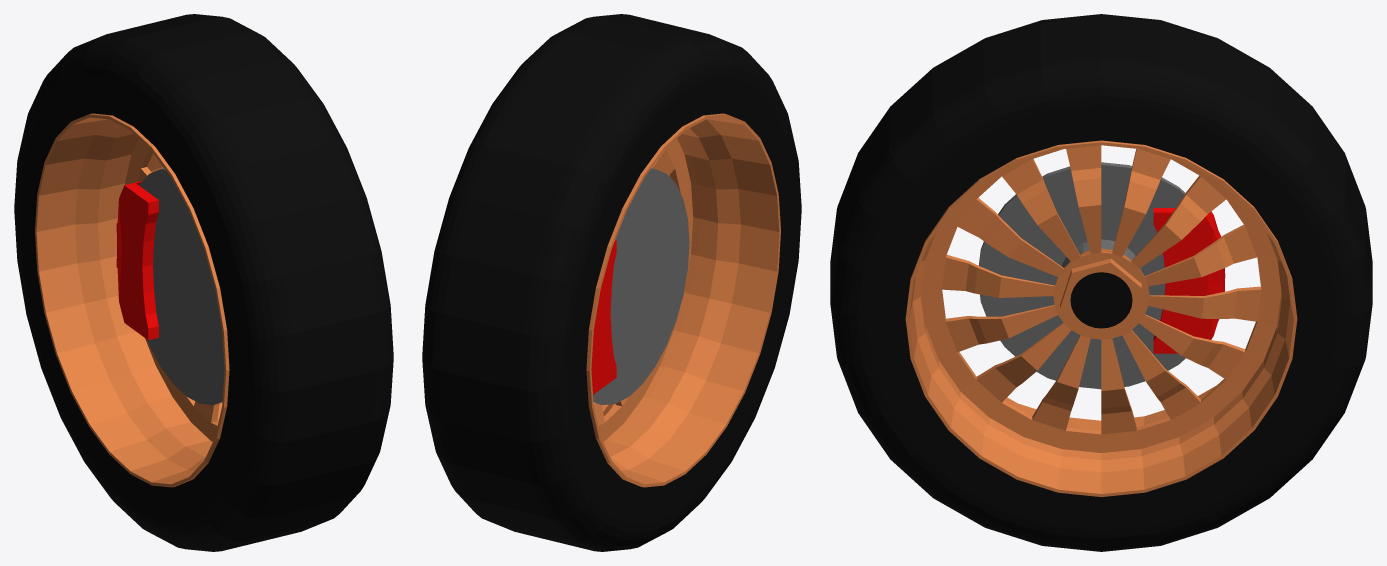
File: jetta2 wheel.fbx
The picture shows the model from 3 angles, left to right: view 1: azimuth 30°, elevation 25°; view 2: azimuth 150°, elevation 25°; view 3: azimuth 270°, elevation 25°; orthographic projection. The views are drawn at different scales.
Visible parts, largest first — view 1: wheel, support; view 2: wheel, support; view 3: wheel, support.
Part boxes in pixels (<box>): wheel: <box>14,14,393,551</box>; support: <box>116,181,158,340</box>; wheel: <box>422,14,801,551</box>; support: <box>591,240,616,394</box>; wheel: <box>830,14,1372,551</box>; support: <box>1153,208,1224,353</box>.
Size of the model in its own units: 13.25 by 41.42 by 41.42.
